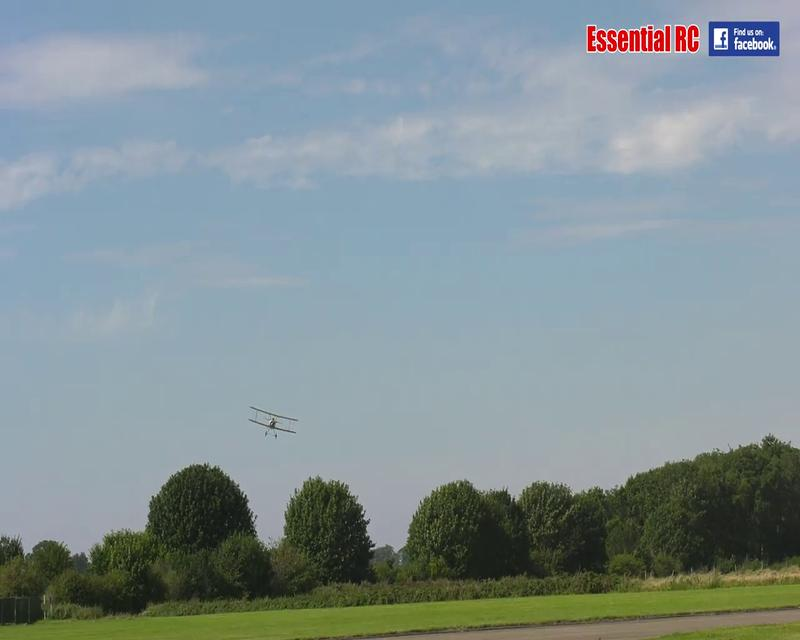UAV: (246, 404, 299, 441)
